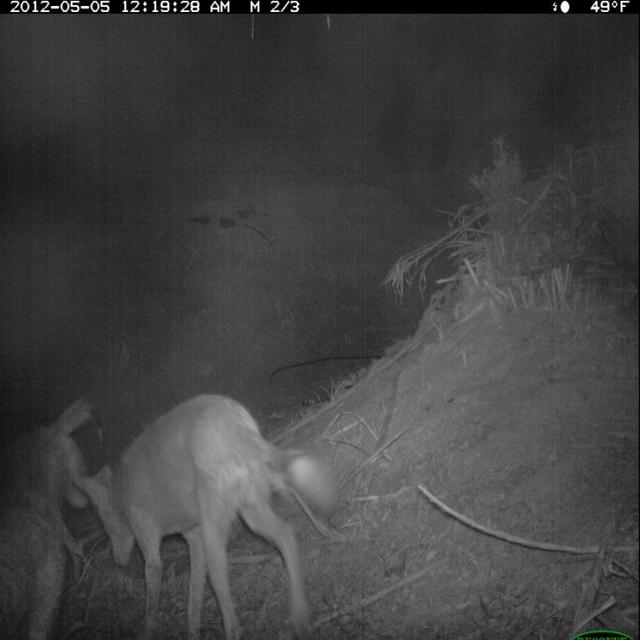coyote: (77, 390, 337, 640)
